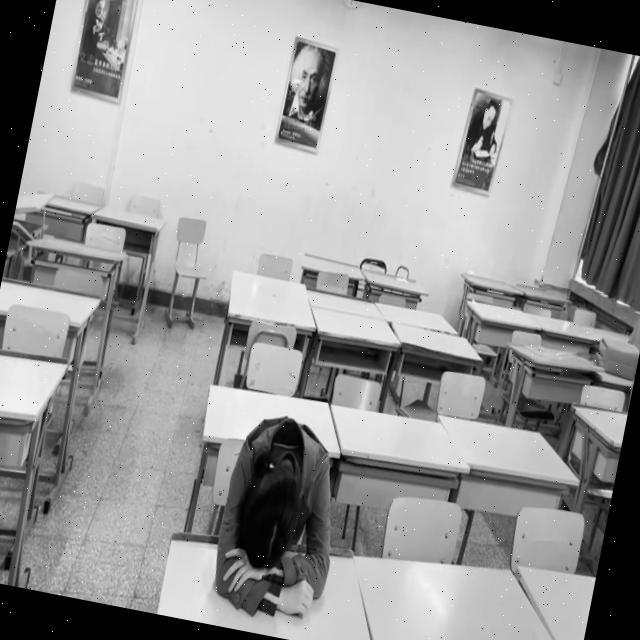sleep: (209, 414, 352, 619)
